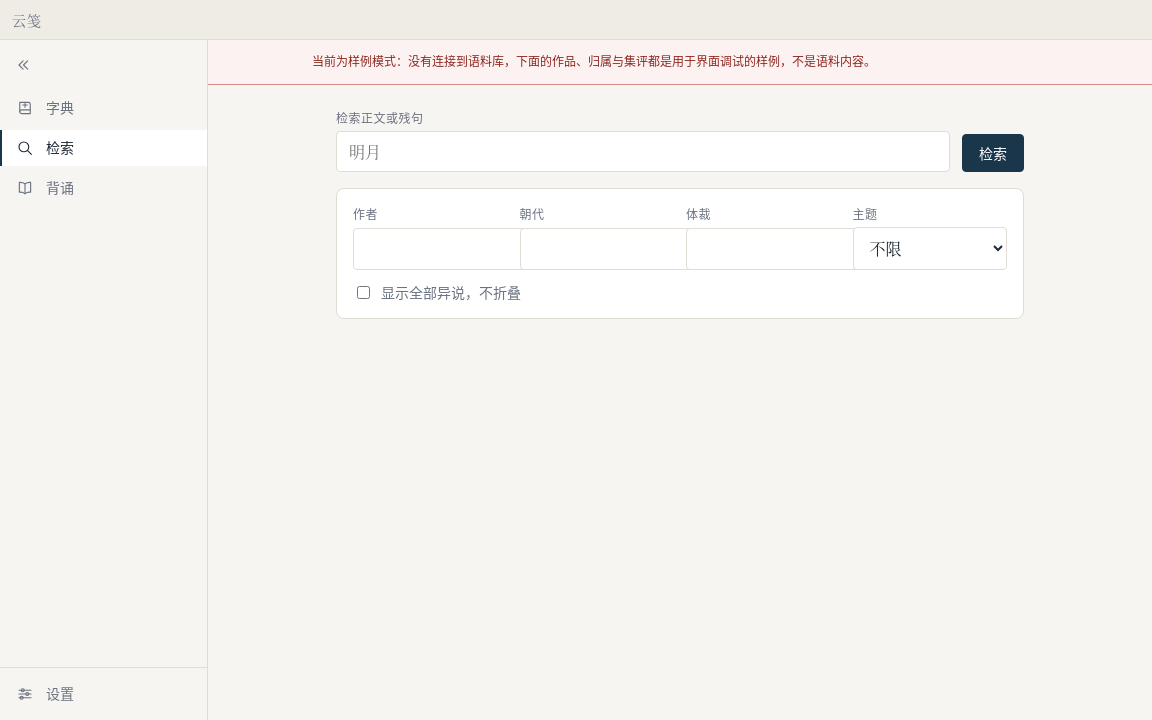
Test case: 外壳导航 › **`?sample-key-tier=plaintext` 走完真实导航后必须显示「明文配置文件」**
The width and height of the screenshot is (1152, 720).
Click the button with test id "nav-settings". click: (104, 694)
box: [0,676,207,712]
(page scrolled)
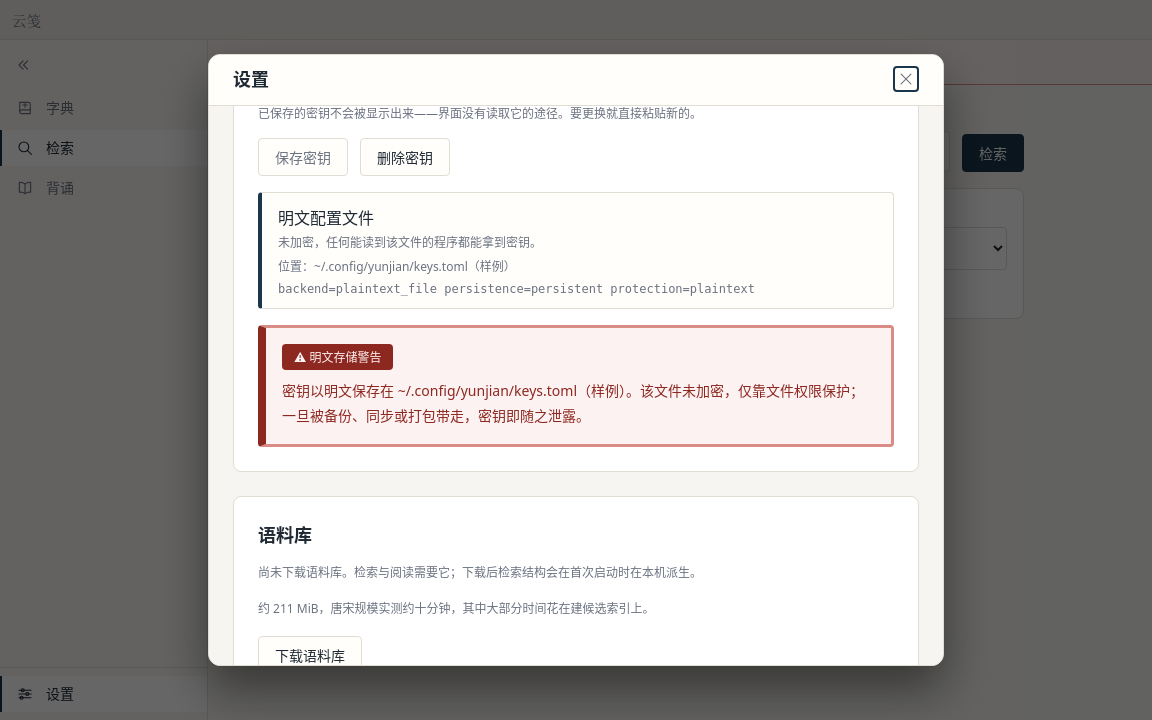
Result: the text with test id "key-storage-indicator" reads "明文配置文件" at [278,207,374,229]
Result: the message with test id "plaintext-warning" shows "密钥以明文保存在" at [282,381,864,425]
